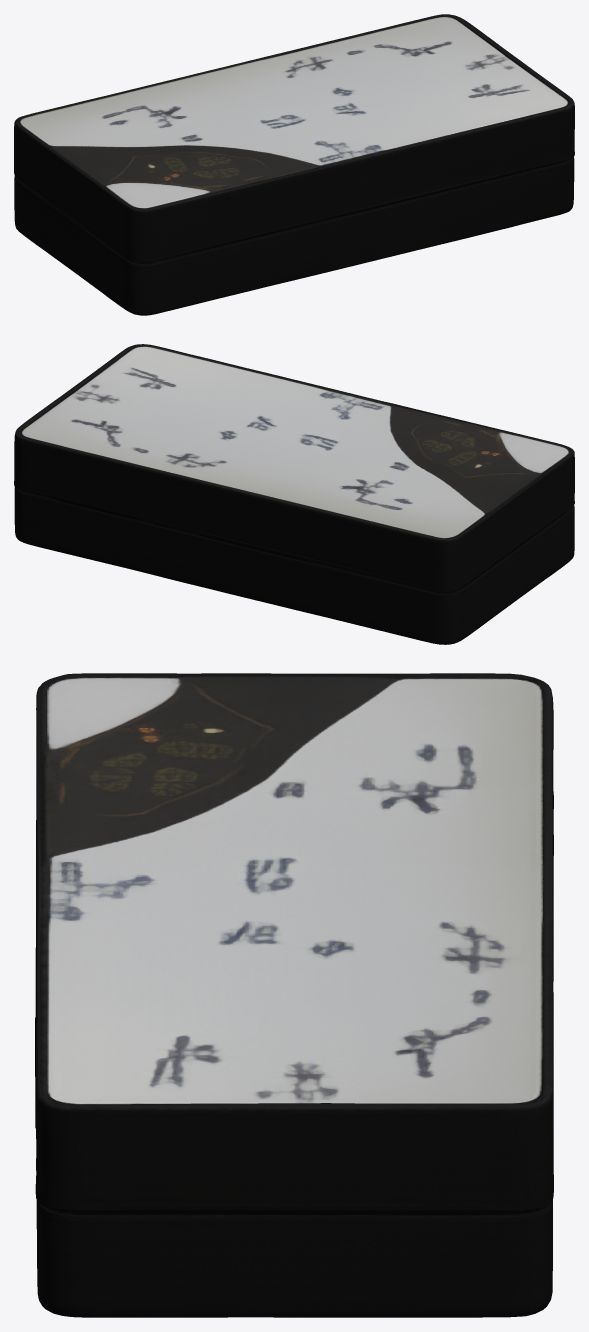
Rendered from 121124_better_lux_single_10_star_be.glb.
3 renders of one model, top to bottom at view 1: azimuth 30°, elevation 25°; view 2: azimuth 150°, elevation 25°; view 3: azimuth 270°, elevation 25°, orthographic. The views are drawn at different scales.
Visible parts, largest first — view 1: world; view 2: world; view 3: world.
Part boxes in pixels (x1=…): world: x1=14, y1=14, x2=574, y2=315; world: x1=14, y1=344, x2=574, y2=644; world: x1=35, y1=673, x2=553, y2=1317.
Size of the model in its own units: 1 by 0.2289 by 0.5043.
1 material, 1 textured.
